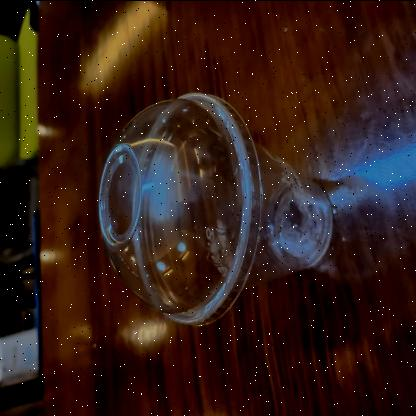Others: (100, 90, 336, 324)
